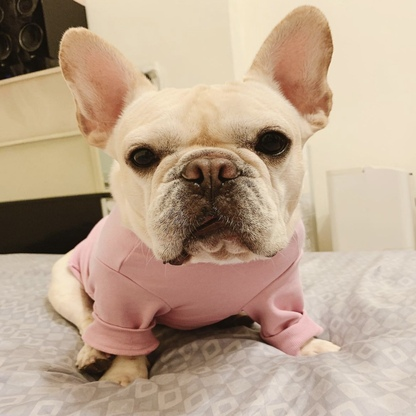bulldog: (45, 3, 342, 386)
